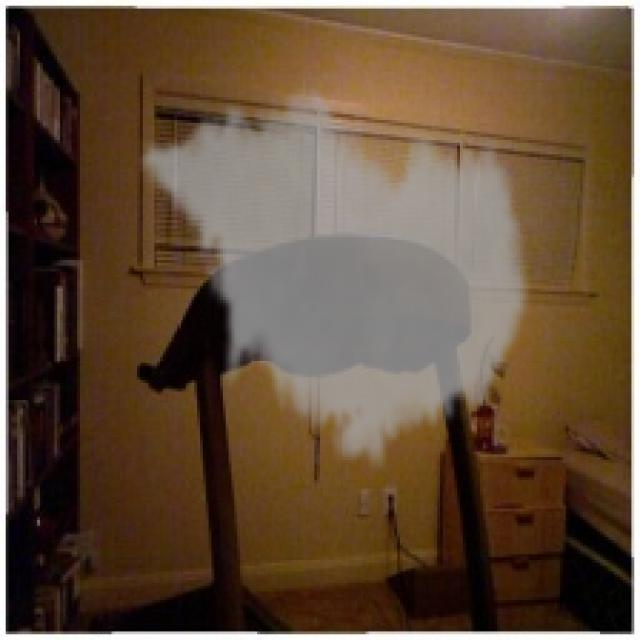smoke: (137, 77, 534, 474)
